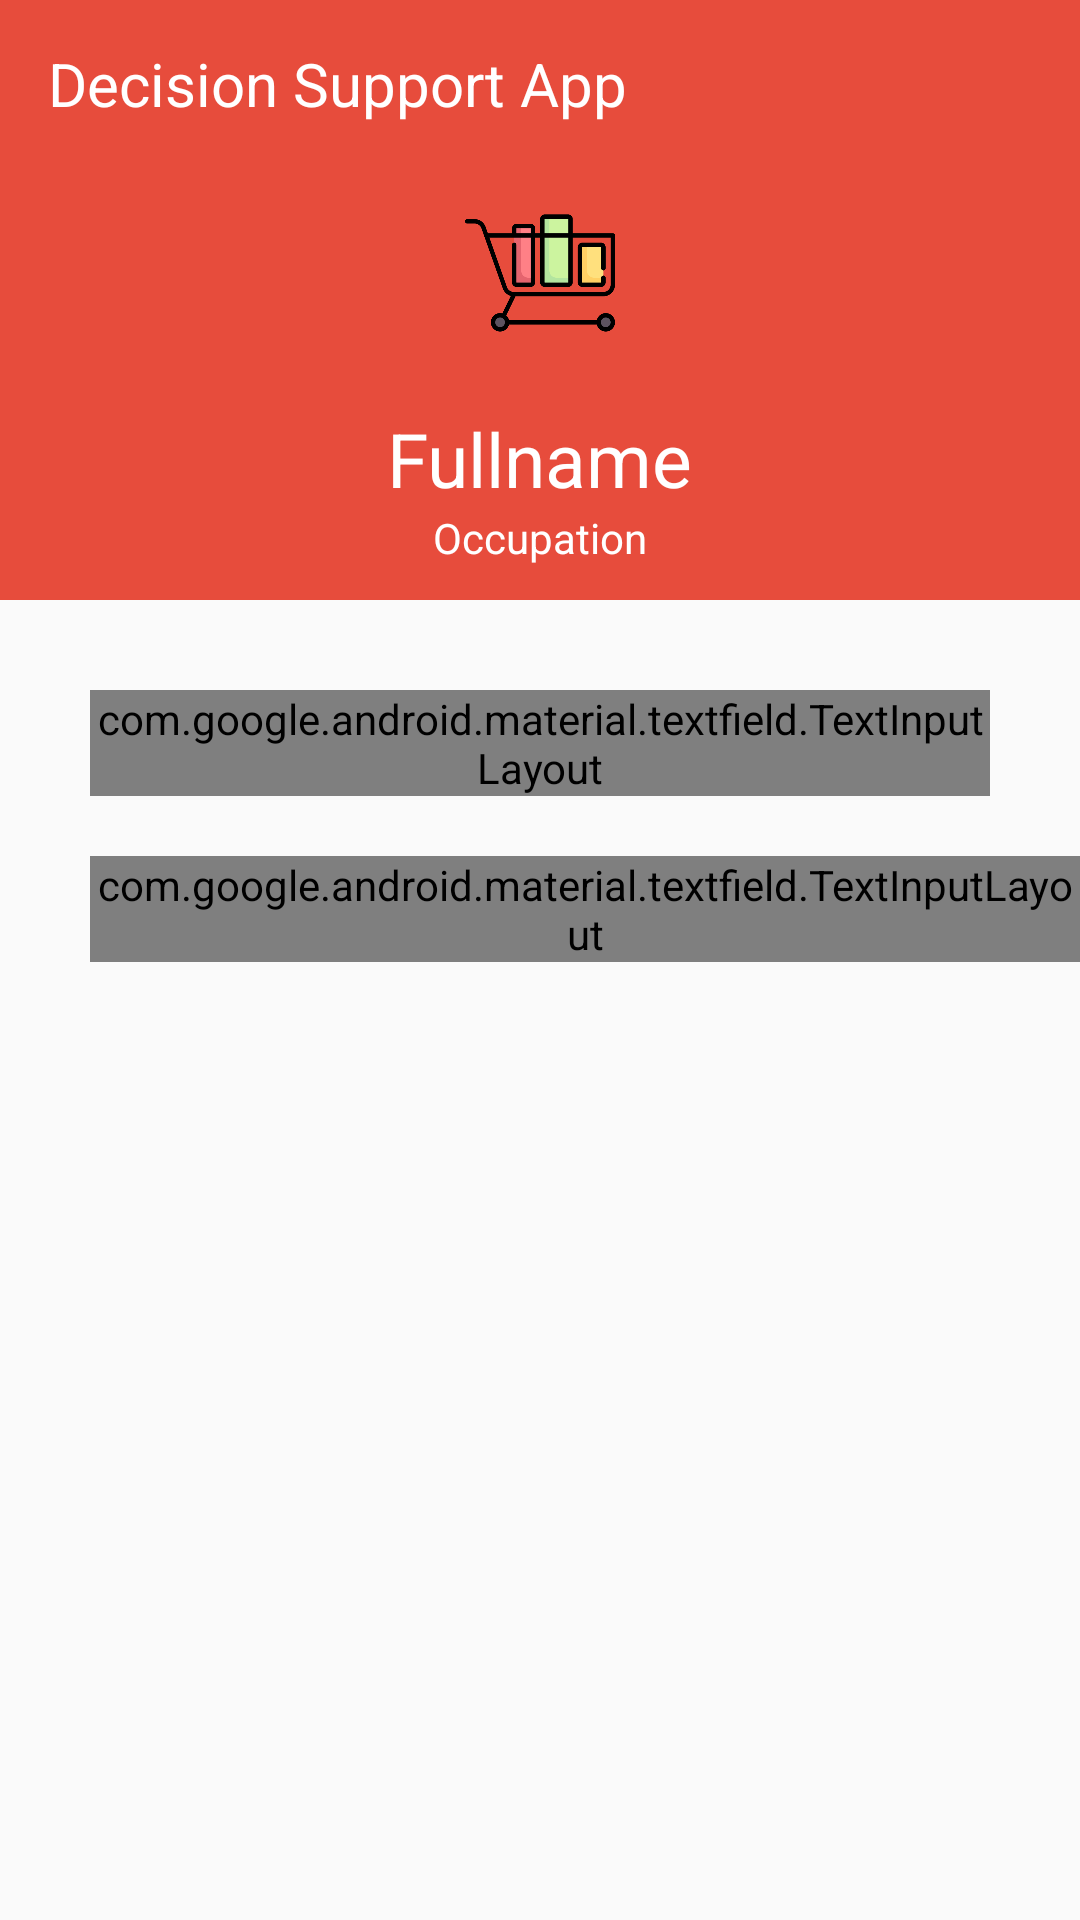

Icon bounding boxes for this 1080×1920 phone screenshot, format detection(x1, y1, x2, y2):
shoppingcart: detection(465, 214, 615, 332)
